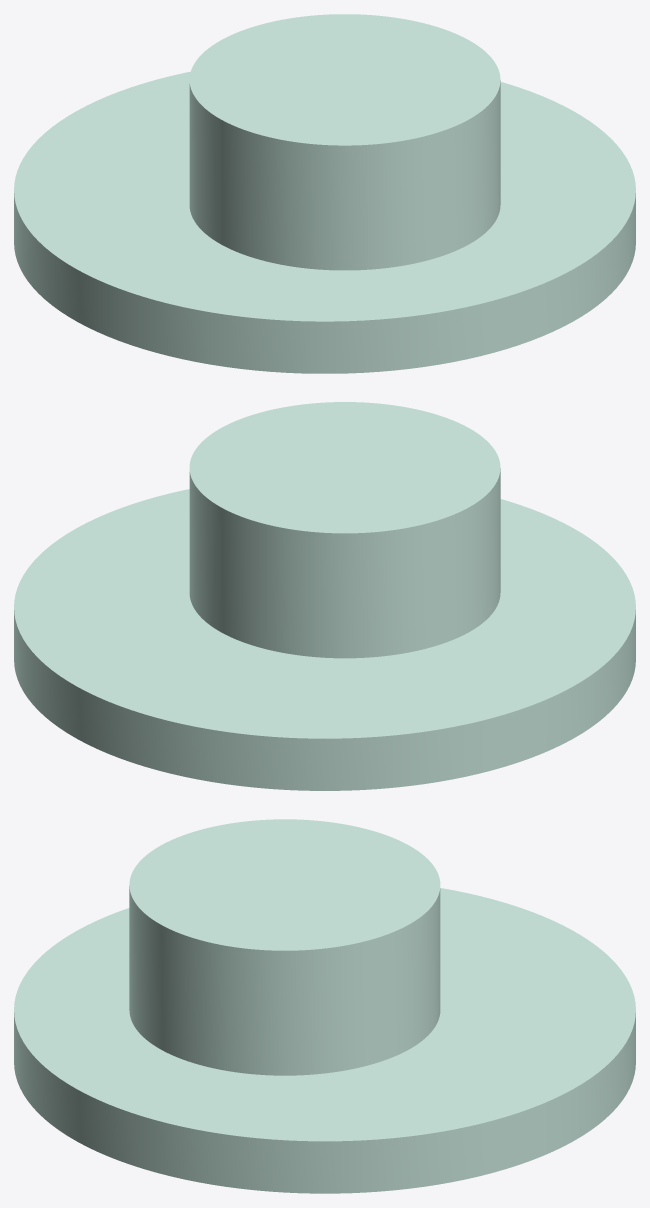
3 views of the same model, one above another, from view 1: azimuth 30°, elevation 25°; view 2: azimuth 150°, elevation 25°; view 3: azimuth 270°, elevation 25° (orthographic).
Visible parts, largest first — view 1: Renderer Node; view 2: Renderer Node; view 3: Renderer Node.
Boxes of the visible parts, box(x1,y1,x2,y2) form: Renderer Node: box(14, 14, 635, 373); Renderer Node: box(14, 402, 635, 790); Renderer Node: box(14, 819, 635, 1193).
Bounding box in the file's own units: 1.52 × 0.4766 × 1.52.
